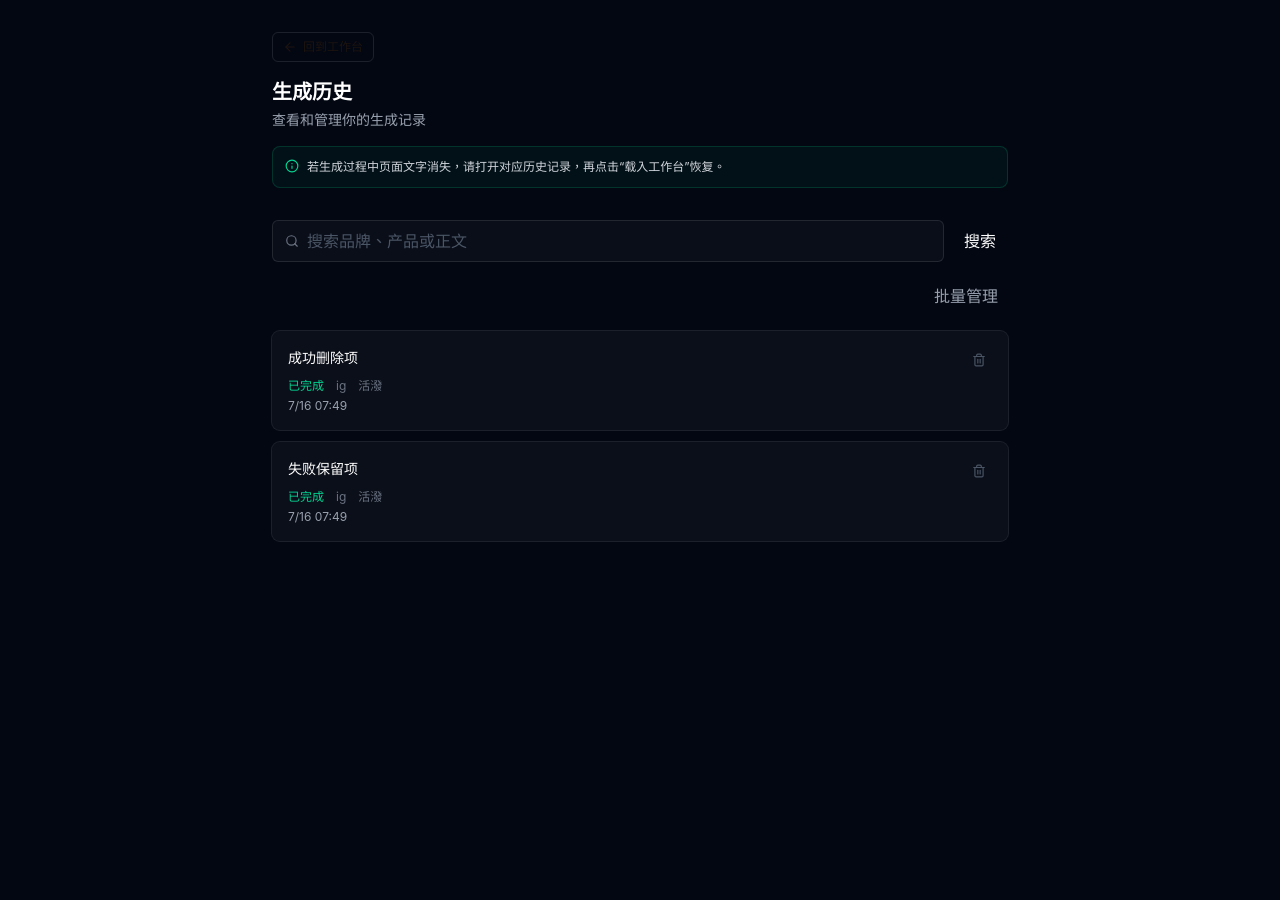
Test: HistoryPage — delete › 批量删除部分失败时保留失败项并提示重试
The image size is (1280, 900).
Expected: the text "成功删除项" is shown, 288,349 -> 358,366
Click the button "批量管理" at (966, 297), box 924,278 -> 1008,315
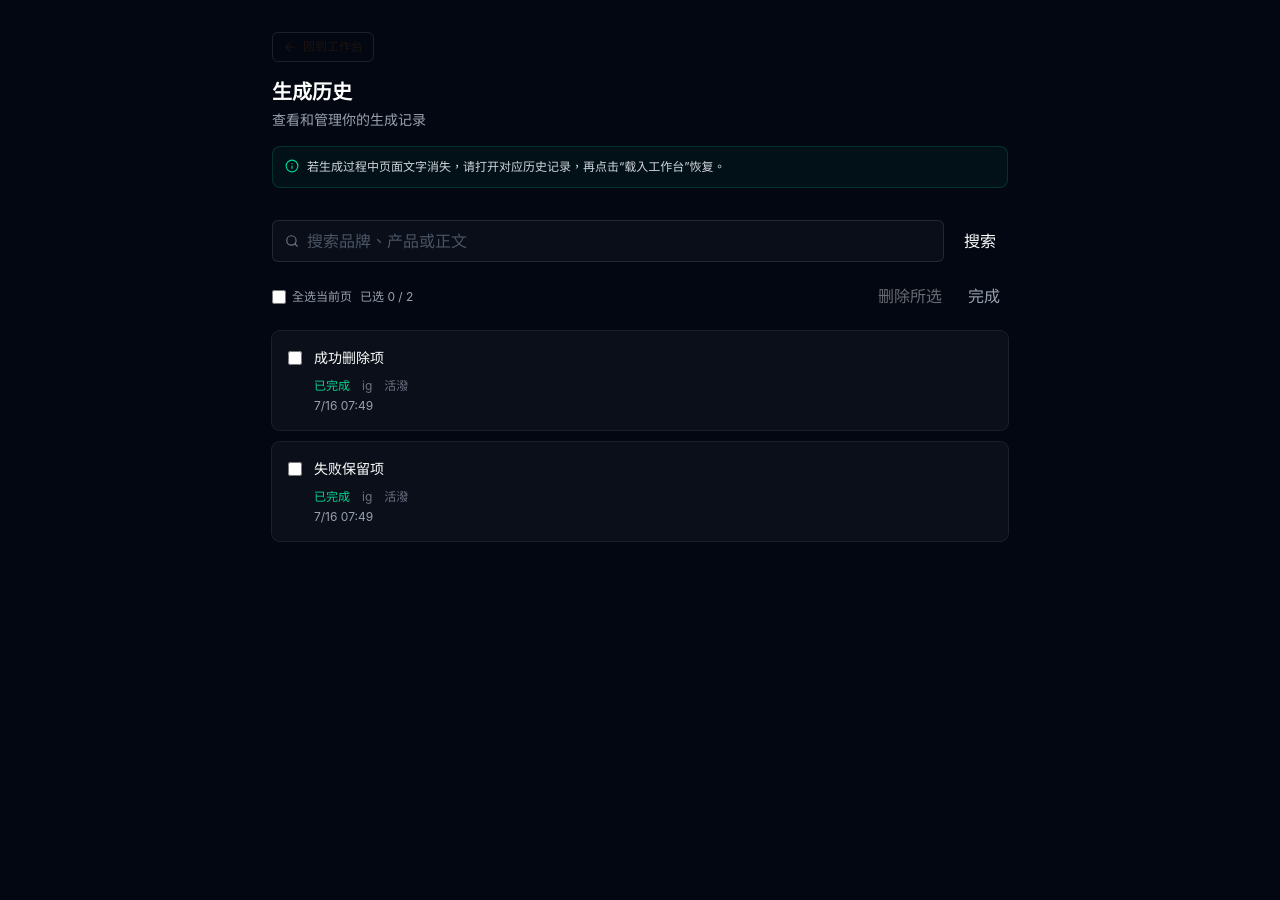
Click the checkbox named "全选当前历史" at (279, 297), box 272,290 -> 286,304
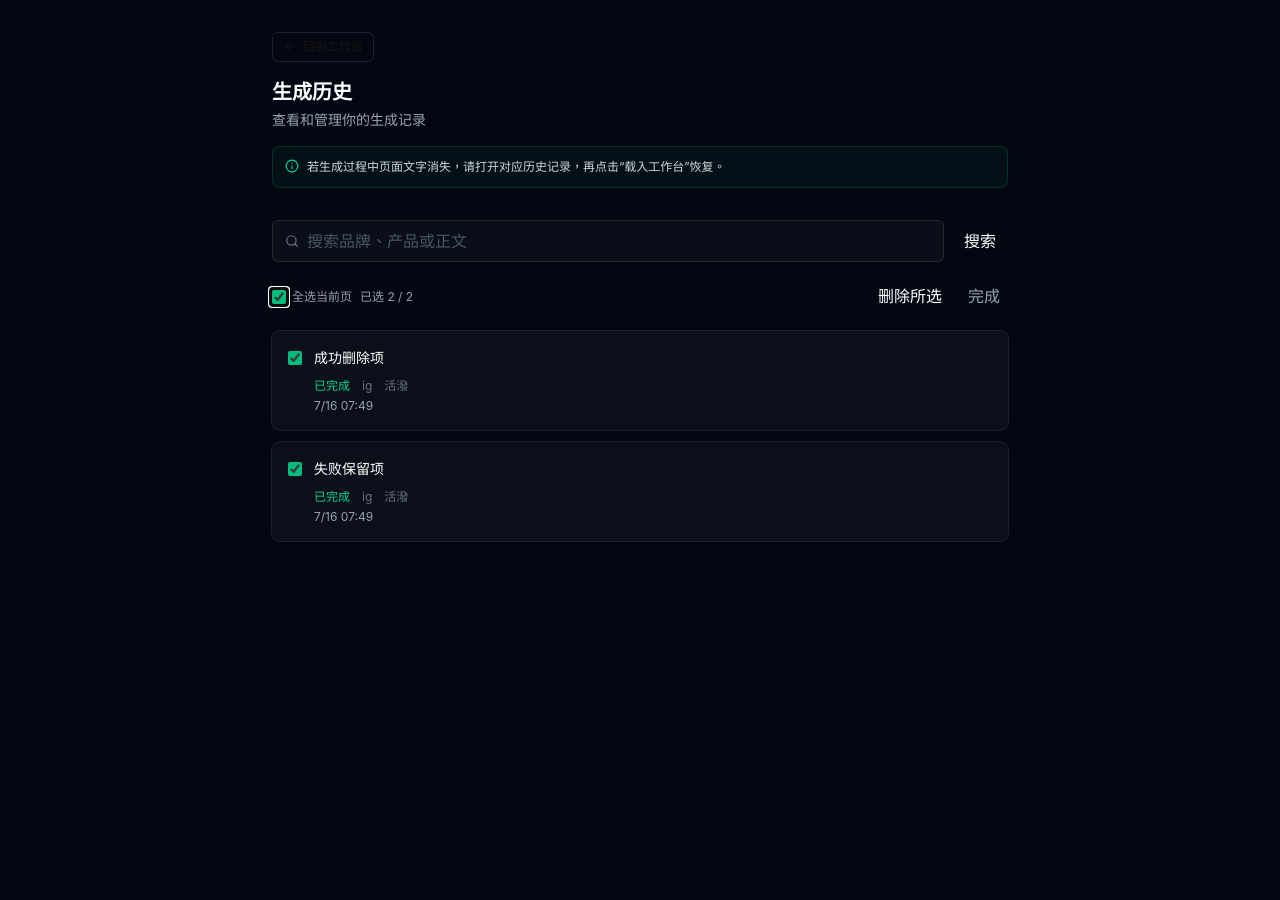
Click the button "删除所选" at (910, 297), box 868,278 -> 952,315
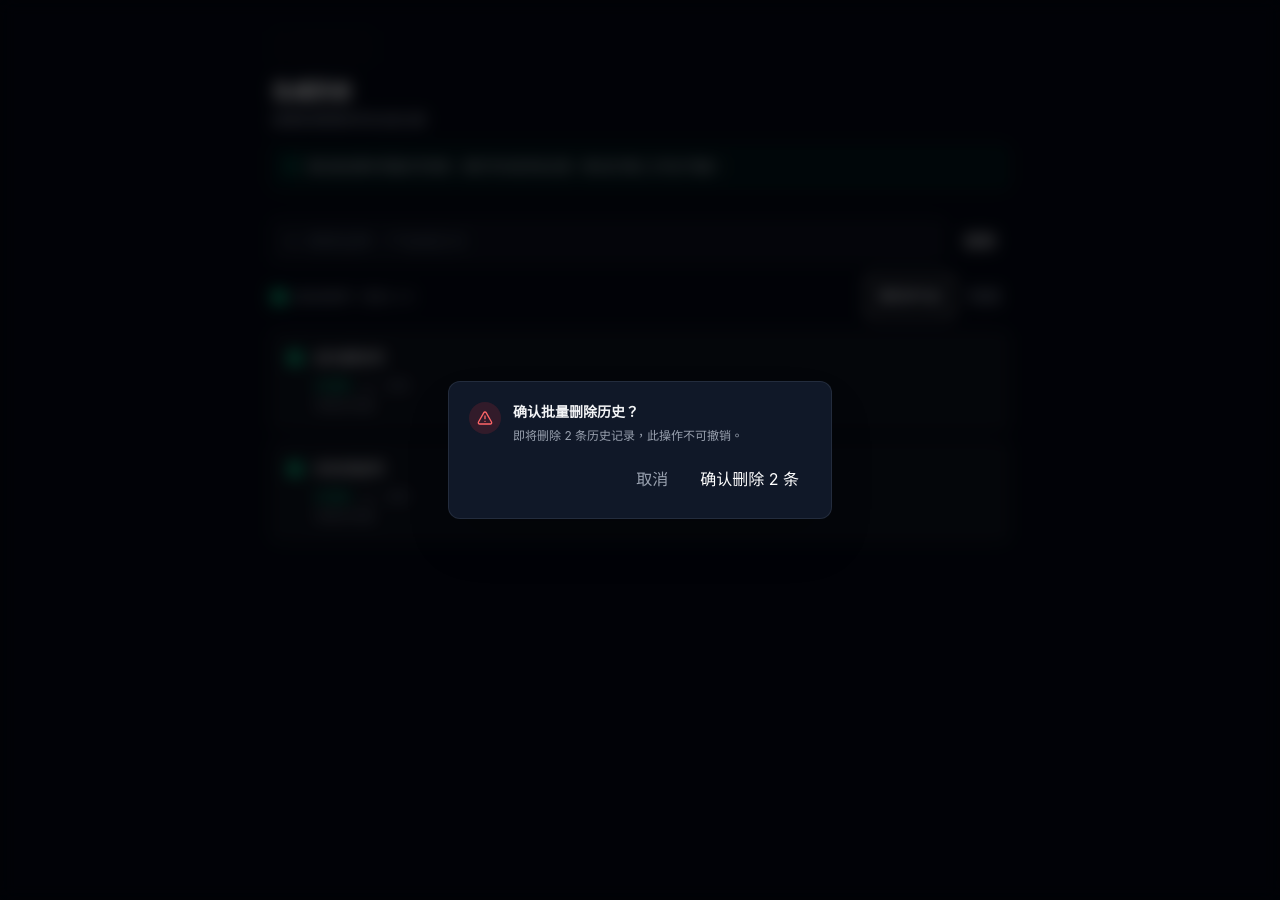
Click the button "确认删除 2 条" at (750, 480), box 688,461 -> 811,498
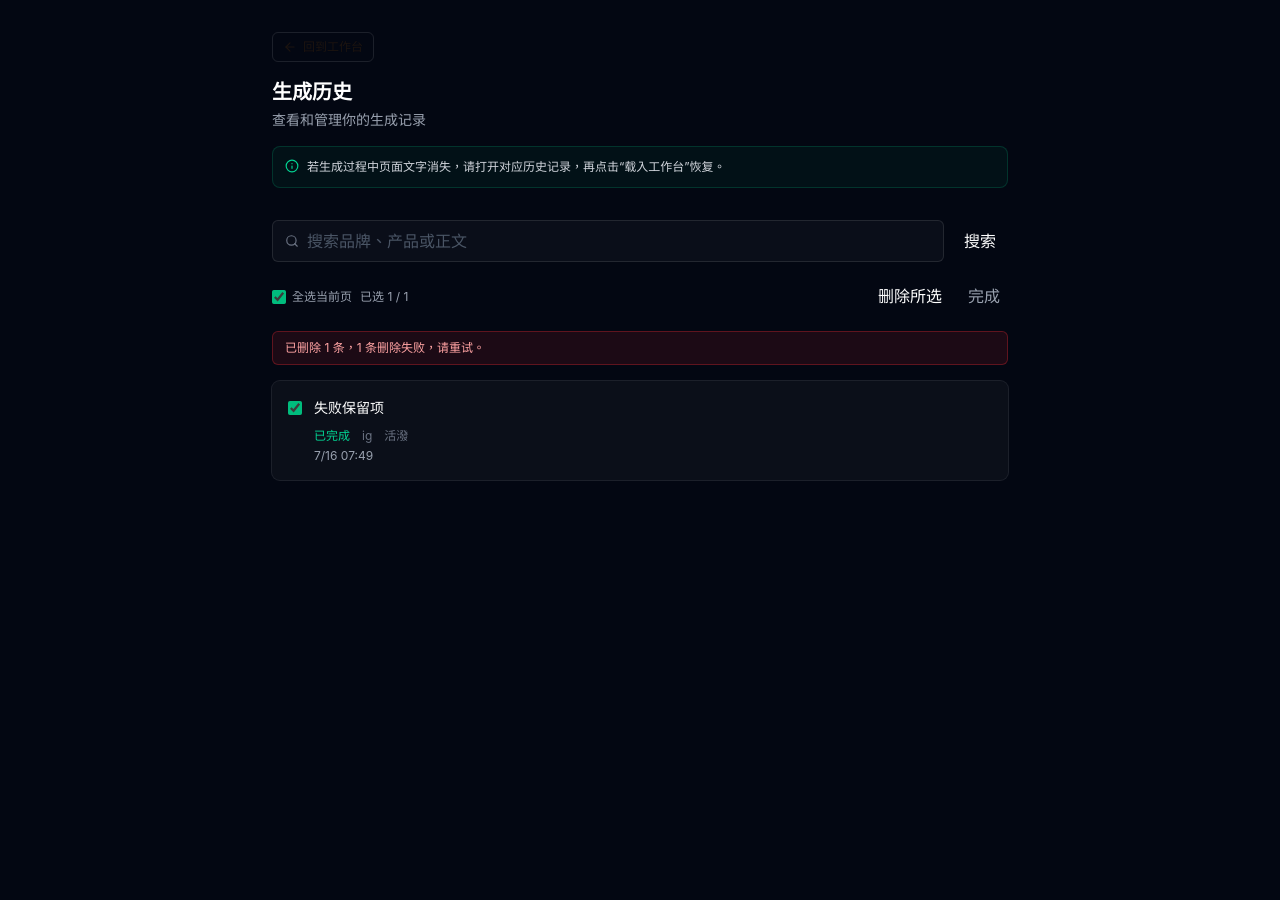
Expected: the text "失败保留项" is shown, 314,399 -> 384,416
Now the text "已删除 1 条，1 条删除失败，请重试。" is shown, box 272,331 -> 1008,365
Now the link "成功删除项" is gone
